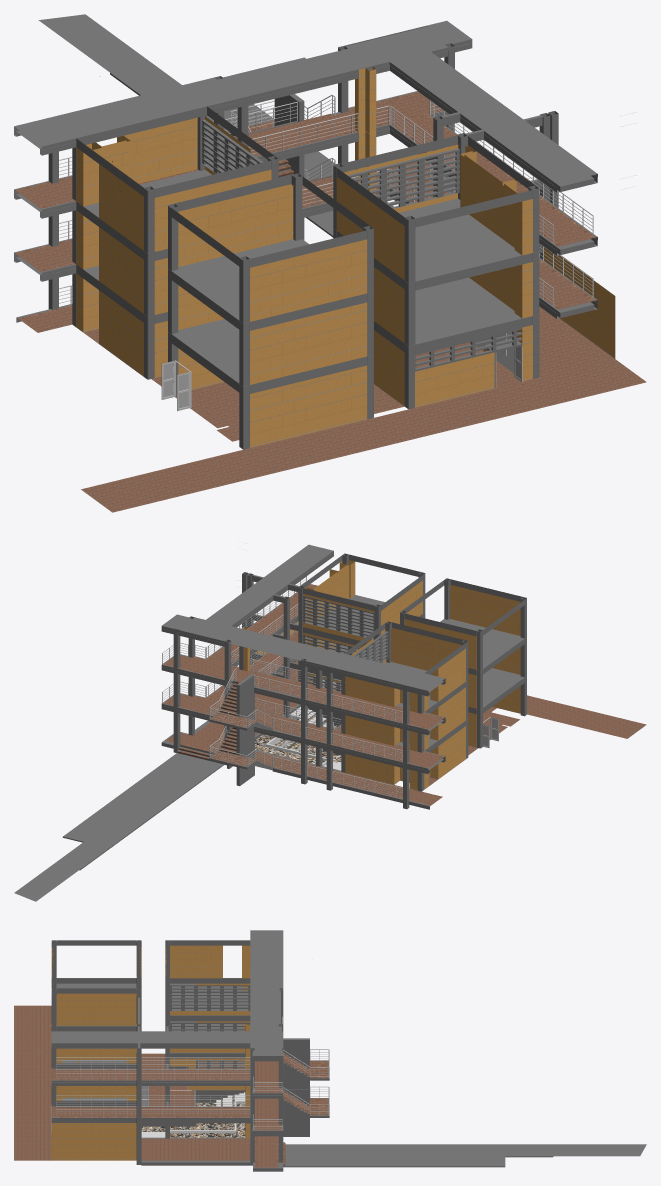
The model's file is car1.glb.
3 views of the same model, one above another, from view 1: azimuth 30°, elevation 25°; view 2: azimuth 150°, elevation 25°; view 3: azimuth 270°, elevation 25° (orthographic). The views are drawn at different scales.
Visible parts, largest first — view 1: Layer:Muro, Layer:placa 2 piso, Layer:piso ladrillo, Layer:Columnas y Muros, Layer:piso cemento est, Layer:Baranda, Layer:Piso y textura, Layer:piso H, Layer:Bloque gris, Layer:Piso V, Layer:puerta salones, Layer:vidrio; view 2: Layer:placa 2 piso, Layer:Muro, Layer:piso ladrillo, Layer:Columnas y Muros, Layer:piso cemento est, Layer:Baranda, Layer:Piso y textura, Layer:piso H, Layer:Bloque gris, Layer:piedra suelta, Layer:concreto base; view 3: Layer:placa 2 piso, Layer:piso ladrillo, Layer:Muro, Layer:piso cemento est, Layer:Columnas y Muros, Layer:Baranda, Layer:Piso y textura, Layer:piso H, Layer:Piso V, Layer:piedra suelta, Layer:Bloque gris, Layer:concreto base (+1 smaller).
Part boxes in pixels (x1,y1,x2,y2): Layer:Muro: (76,66,615,447); Layer:placa 2 piso: (14,20,597,393); Layer:piso ladrillo: (17,94,646,512); Layer:Columnas y Muros: (48,25,558,449); Layer:piso cemento est: (38,14,522,371); Layer:Baranda: (59,76,636,307); Layer:Piso y textura: (17,73,459,318); Layer:piso H: (15,91,540,332); Layer:Bloque gris: (202,122,516,365); Layer:Piso V: (391,115,595,309); Layer:puerta salones: (161,345,522,411); Layer:vidrio: (164,346,520,408); Layer:placa 2 piso: (161,544,524,809); Layer:Muro: (242,560,520,790); Layer:piso ladrillo: (167,584,646,804); Layer:Columnas y Muros: (173,553,526,809); Layer:piso cemento est: (14,753,224,901); Layer:Baranda: (162,543,402,797); Layer:Piso y textura: (62,595,430,870); Layer:piso H: (163,656,444,805); Layer:Bloque gris: (303,597,388,691); Layer:piedra suelta: (255,714,341,764); Layer:concreto base: (265,707,341,770); Layer:placa 2 piso: (51,930,283,1136); Layer:piso ladrillo: (14,1005,278,1167); Layer:Muro: (51,945,250,1160); Layer:piso cemento est: (283,1144,646,1167); Layer:Columnas y Muros: (51,940,309,1164); Layer:Baranda: (56,1016,329,1130); Layer:Piso y textura: (138,984,553,1168); Layer:piso H: (191,1053,328,1167); Layer:Piso V: (51,1069,249,1117); Layer:piedra suelta: (141,1095,245,1137); Layer:Bloque gris: (170,986,250,1068); Layer:concreto base: (141,1092,245,1137).
Bounding box in the file's own units: 34.56 × 12.52 × 53.6.
8 materials, 4 textured.
